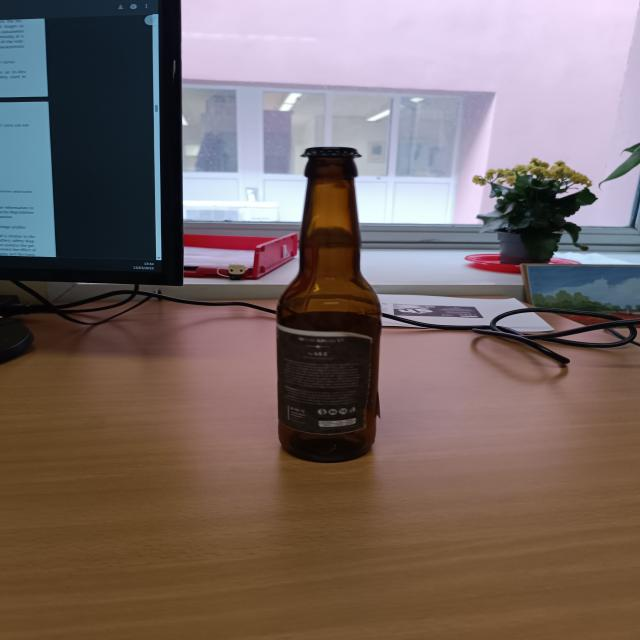Bottle: (271, 146, 379, 463)
Cap: (293, 146, 371, 160)
Label: (281, 327, 372, 434)
